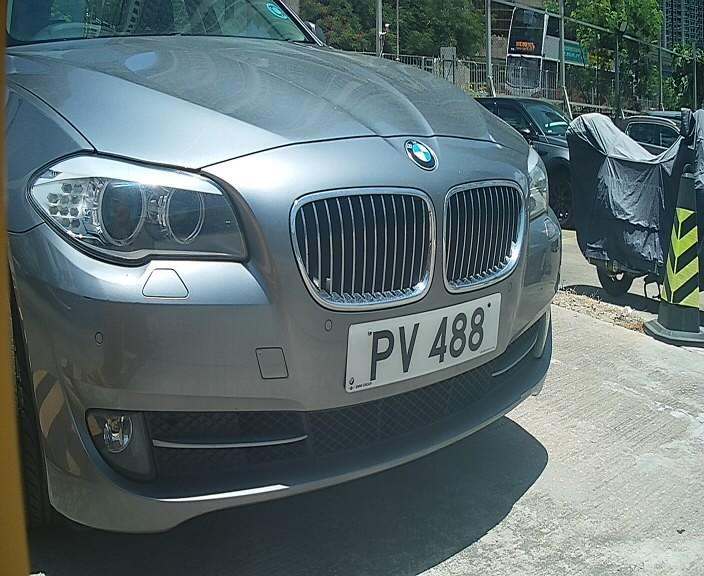License Plate: (337, 286, 517, 407)
